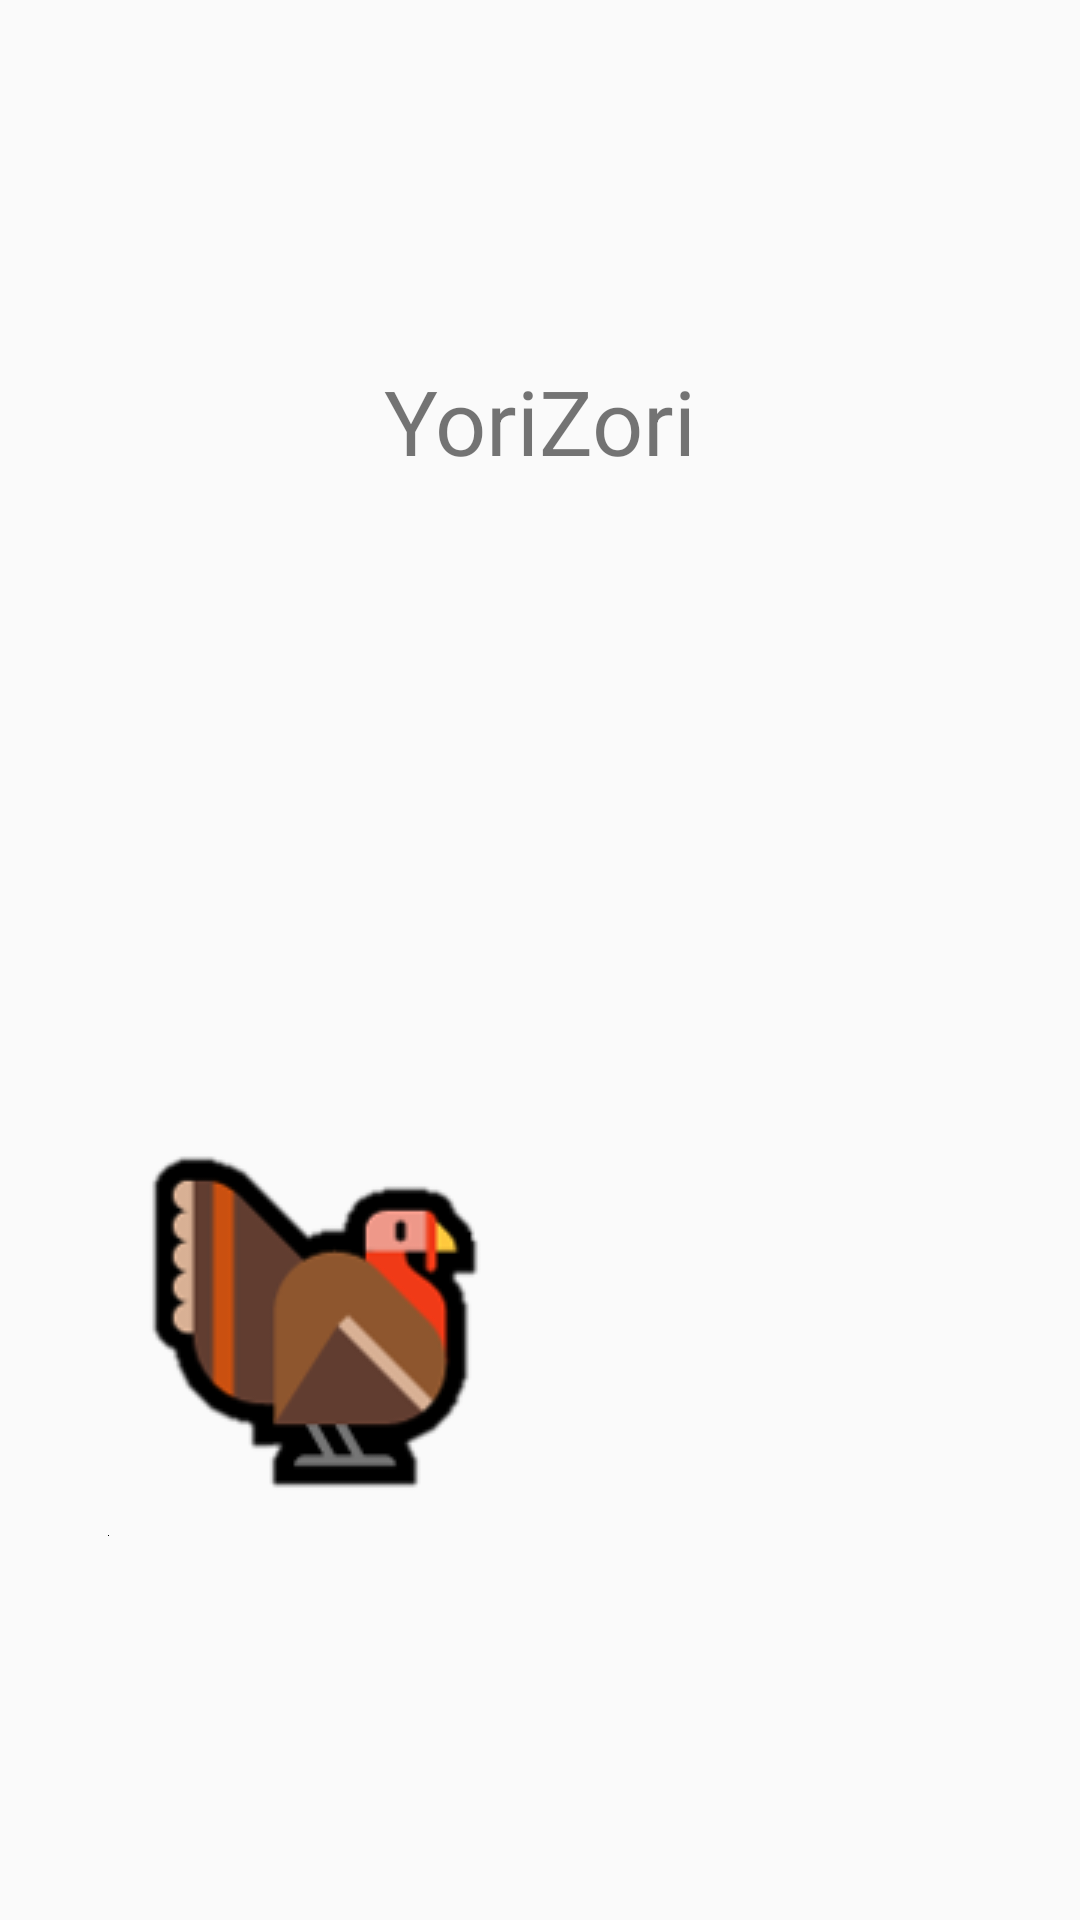

Icons on this 1080*1920 Android screen, each with the point to tap as (x=x, y=y):
turkey looking right: (x=315, y=1322)
